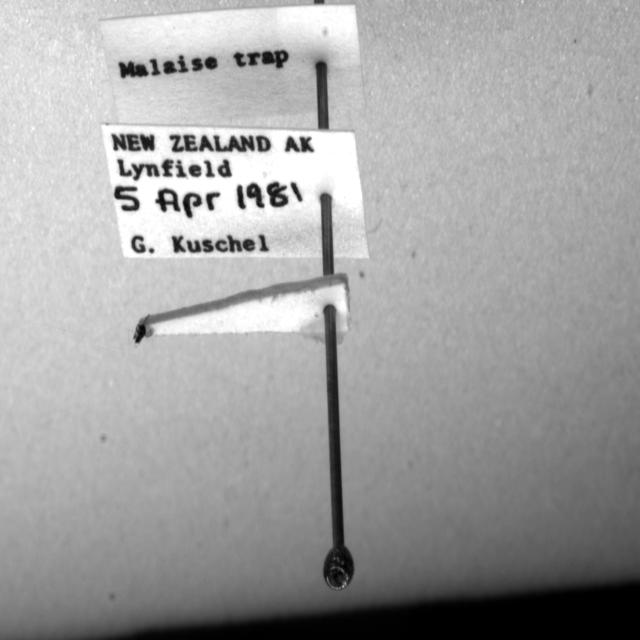hand_label: (100, 6, 365, 124)
mixed_label: (101, 124, 369, 259)
